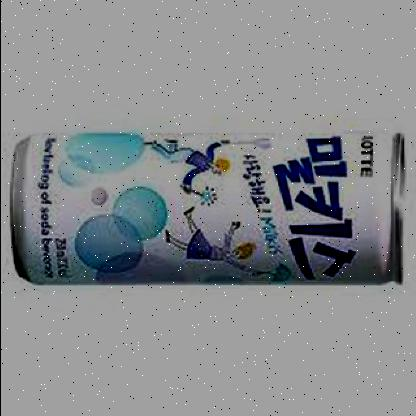Can: (6, 122, 406, 288)
